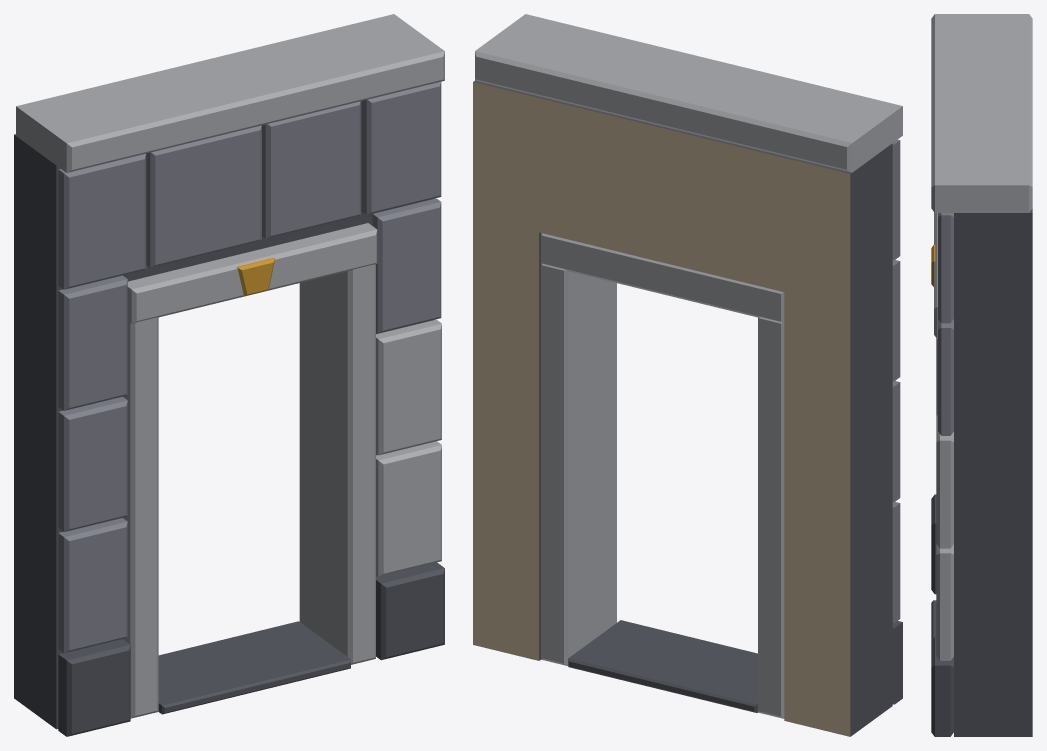
The model's file is WallDoor_01.glb.
3 renders of one model, left to right at view 1: azimuth 30°, elevation 25°; view 2: azimuth 150°, elevation 25°; view 3: azimuth 270°, elevation 25°, orthographic. The views are drawn at different scales.
Parts seen in each view (by area): view 1: WallDoor_01; view 2: WallDoor_01; view 3: WallDoor_01.
Boxes of the visible parts, x1,y1,x2,y2 form: WallDoor_01: [14, 14, 444, 736]; WallDoor_01: [473, 14, 902, 736]; WallDoor_01: [931, 14, 1032, 736].
Size of the model in its own units: 8 by 12 by 2.
